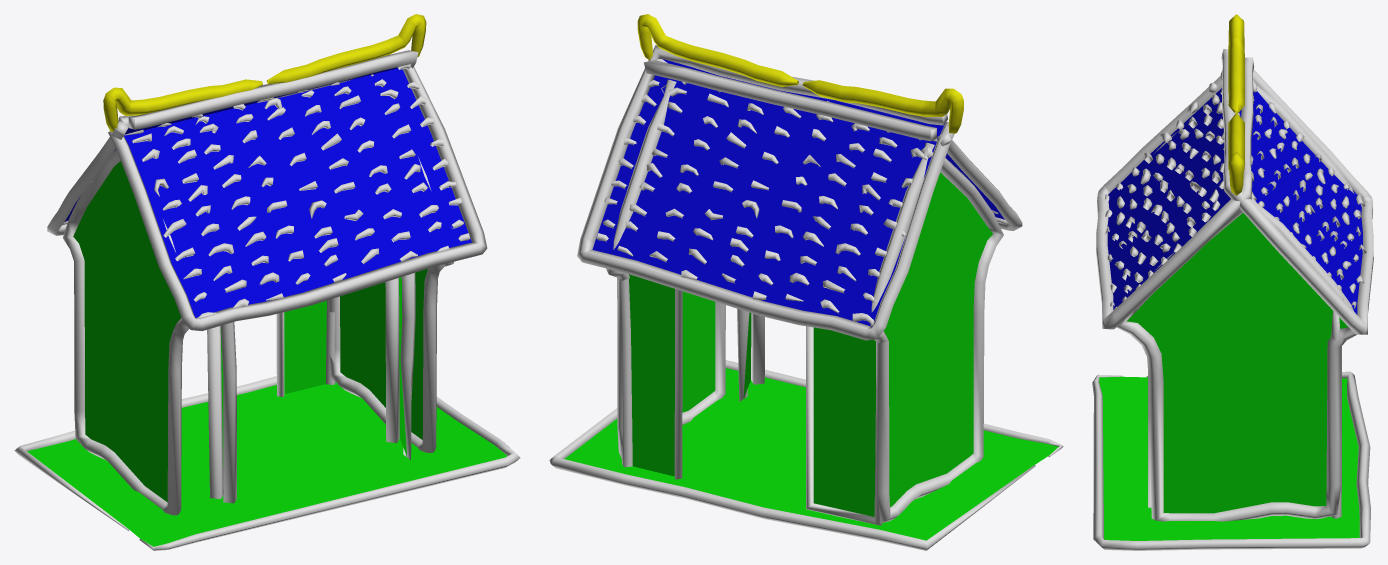
File: door1.fbx
The picture shows the model from 3 angles, left to right: view 1: azimuth 30°, elevation 25°; view 2: azimuth 150°, elevation 25°; view 3: azimuth 270°, elevation 25°; orthographic projection. The views are drawn at different scales.
Visible parts, largest first — view 1: GP_Layer.008; view 2: GP_Layer.008; view 3: GP_Layer.008.
Boxes of the visible parts, <box> form: GP_Layer.008: <box>14,14,520,550</box>; GP_Layer.008: <box>549,14,1063,550</box>; GP_Layer.008: <box>1092,14,1373,550</box>.
Bounding box in the file's own units: 406 × 427 × 279.
